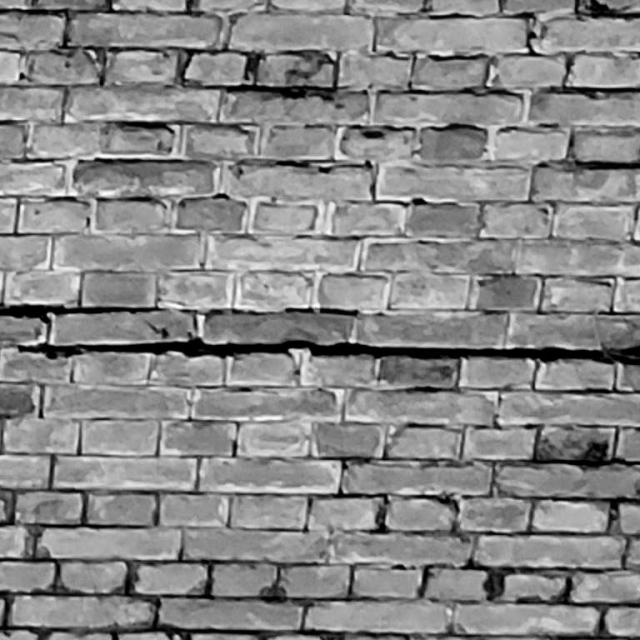crack: (18, 334, 640, 368), (1, 304, 166, 325)
